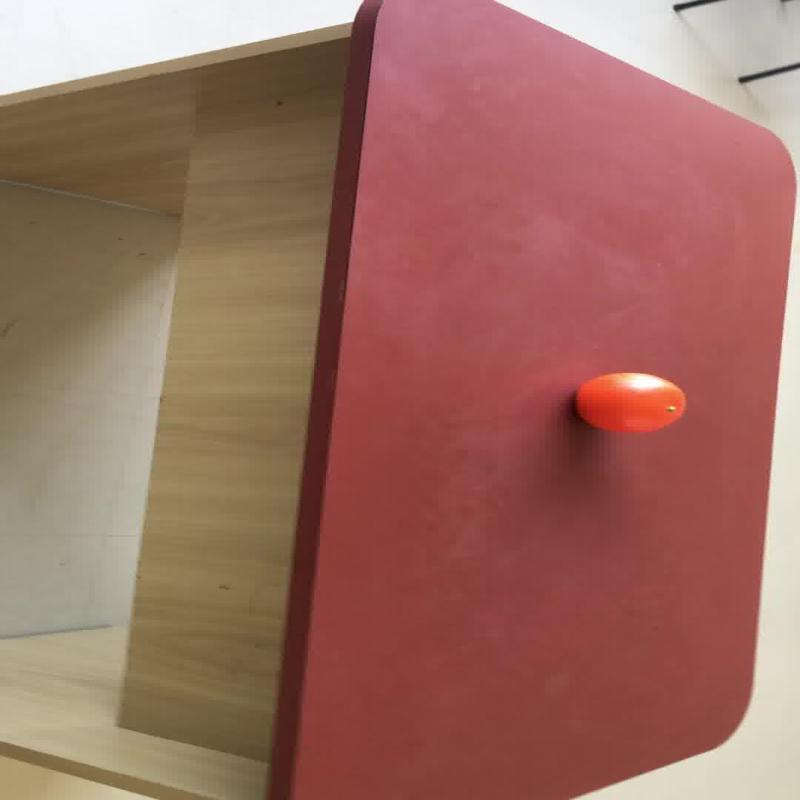orange: (572, 371, 686, 433)
